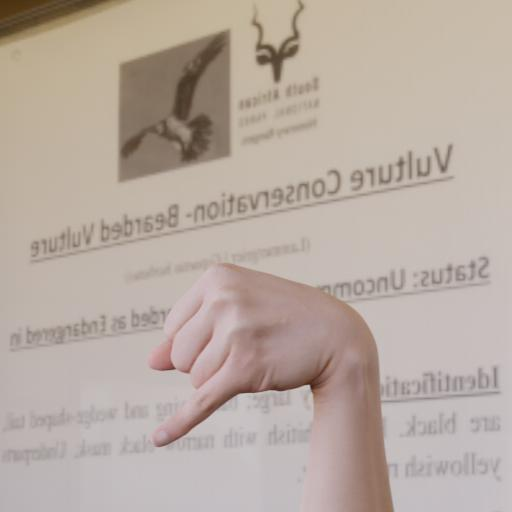J: (126, 238, 400, 464)
